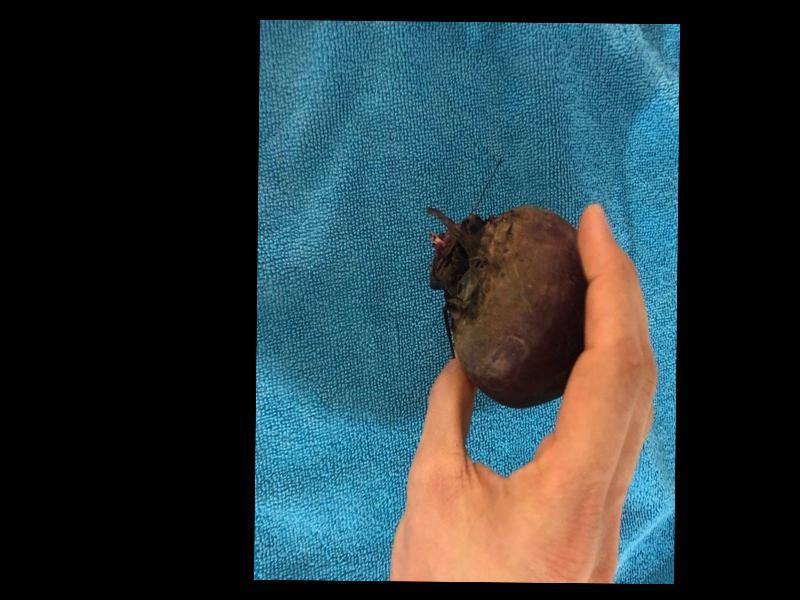Beet: (425, 205, 586, 407)
